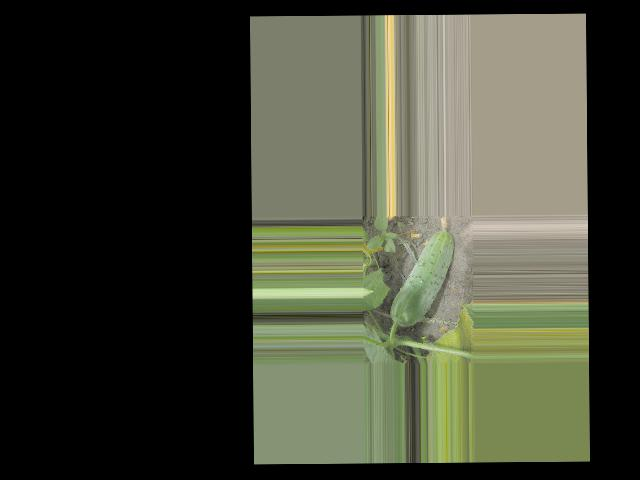cucumber: (389, 215, 455, 326)
